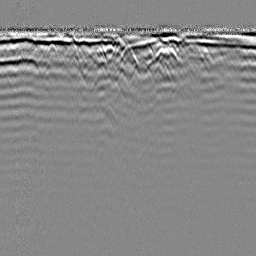cavity: (119, 42, 139, 67)
